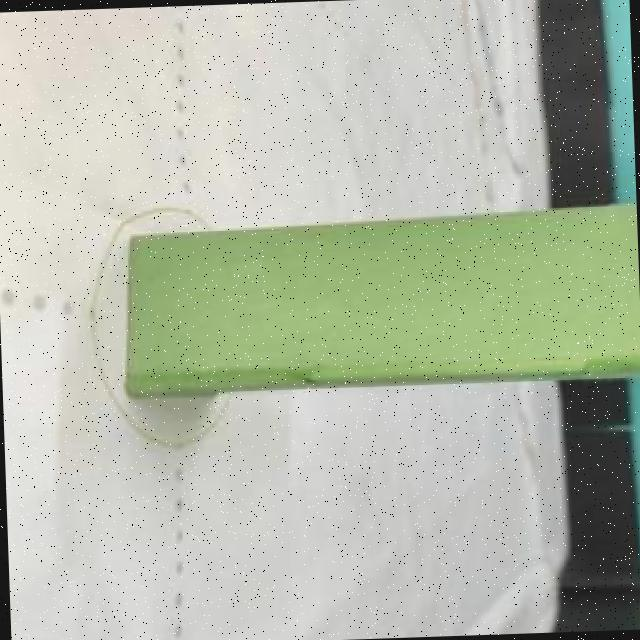greenbox: (122, 206, 640, 401)
